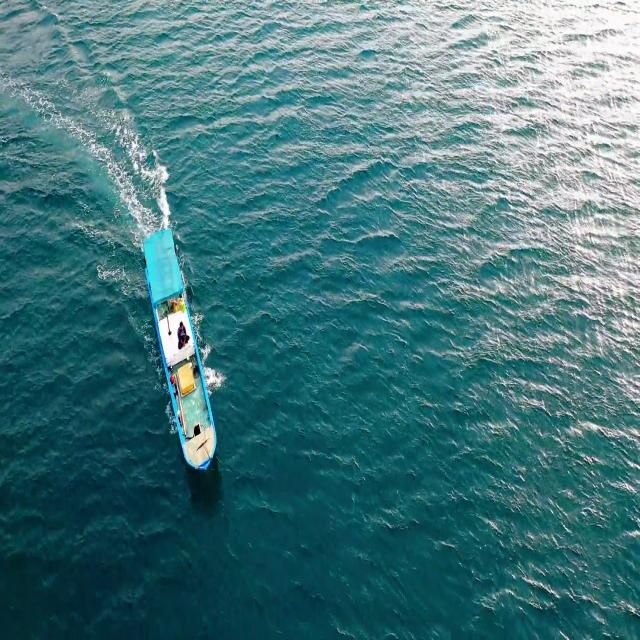ship: (138, 221, 221, 481)
